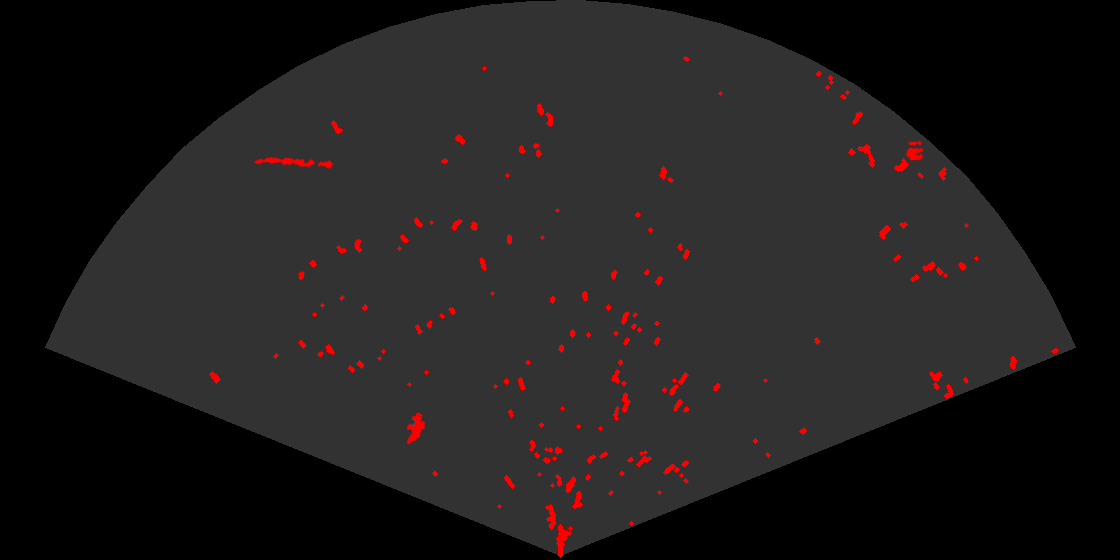AUV: (405, 411, 427, 446)
ball: (904, 139, 926, 162)
chain: (253, 155, 335, 170)
